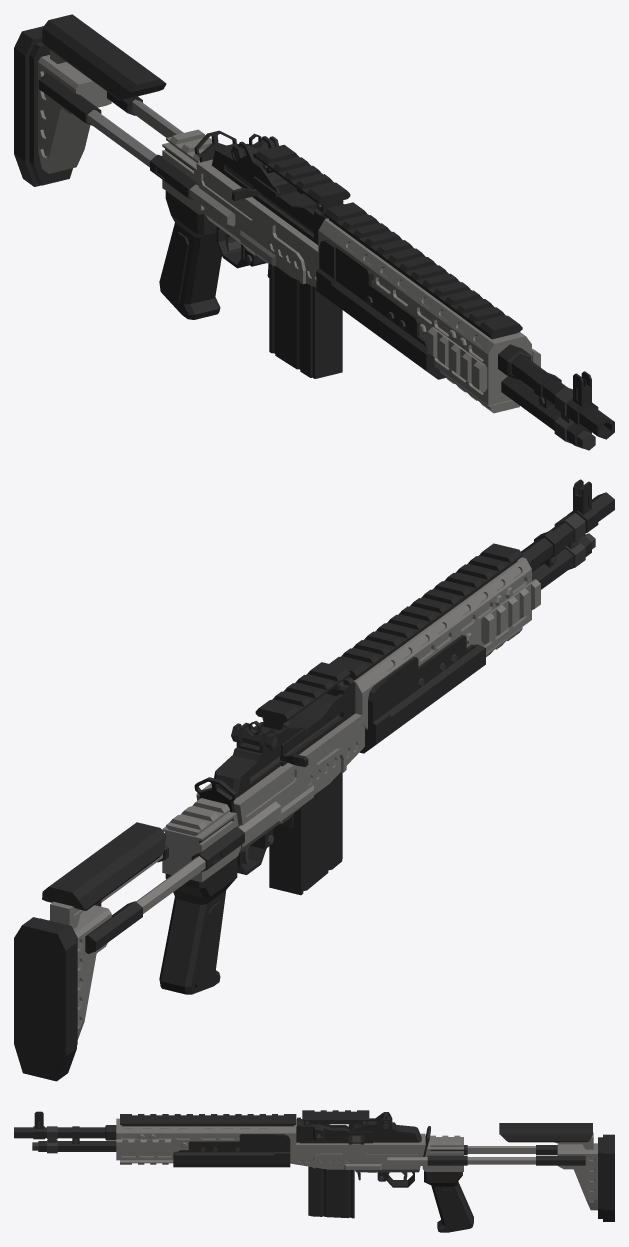
Rendered from DMR_C.fbx.
3 renders of one model, top to bottom at view 1: azimuth 30°, elevation 25°; view 2: azimuth 150°, elevation 25°; view 3: azimuth 270°, elevation 25°, orthographic. The views are drawn at different scales.
Parts seen in each view (by area): view 1: DMR_C_Receiver, DMR_C_Stock_Part, DMR_C_Mag, DMR_C_Barrel, DMR_C_Grip, DMR_C_Stock, DMR_C_Rail, DMR_C_Rail_Right; view 2: DMR_C_Receiver, DMR_C_Stock_Part, DMR_C_Grip, DMR_C_Mag, DMR_C_Stock, DMR_C_Barrel, DMR_C_Rail, DMR_C_Rail_Right; view 3: DMR_C_Receiver, DMR_C_Stock_Part, DMR_C_Barrel, DMR_C_Mag, DMR_C_Grip, DMR_C_Stock, DMR_C_Rail, DMR_C_Rail_Left.
Boxes of the visible parts, <box> form: DMR_C_Receiver: <box>194,130,531,413</box>; DMR_C_Stock_Part: <box>14,14,235,226</box>; DMR_C_Mag: <box>269,263,342,378</box>; DMR_C_Barrel: <box>498,344,614,450</box>; DMR_C_Grip: <box>159,191,221,319</box>; DMR_C_Stock: <box>150,129,212,214</box>; DMR_C_Rail: <box>255,144,350,212</box>; DMR_C_Rail_Right: <box>427,327,487,392</box>; DMR_C_Receiver: <box>194,543,531,874</box>; DMR_C_Stock_Part: <box>14,801,281,1081</box>; DMR_C_Grip: <box>159,857,237,994</box>; DMR_C_Mag: <box>269,772,342,895</box>; DMR_C_Stock: <box>157,798,244,882</box>; DMR_C_Barrel: <box>521,479,614,589</box>; DMR_C_Rail: <box>255,662,350,730</box>; DMR_C_Rail_Right: <box>481,579,540,644</box>; DMR_C_Receiver: <box>116,1112,430,1187</box>; DMR_C_Stock_Part: <box>387,1123,614,1221</box>; DMR_C_Barrel: <box>14,1111,116,1153</box>; DMR_C_Mag: <box>308,1166,354,1218</box>; DMR_C_Grip: <box>424,1171,473,1232</box>; DMR_C_Stock: <box>422,1135,467,1171</box>; DMR_C_Rail: <box>302,1110,369,1125</box>; DMR_C_Rail_Left: <box>116,1139,170,1153</box>.
Size of the model in its own units: 0.085 by 0.2631 by 1.23.
